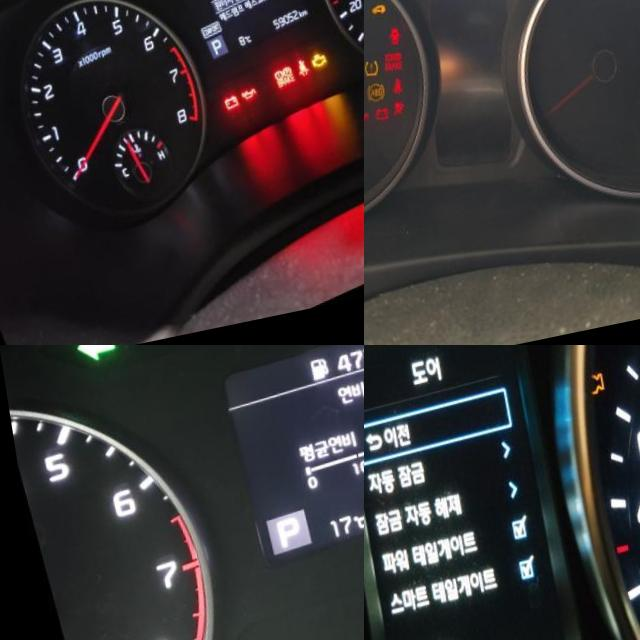Doors: (375, 36, 391, 56)
